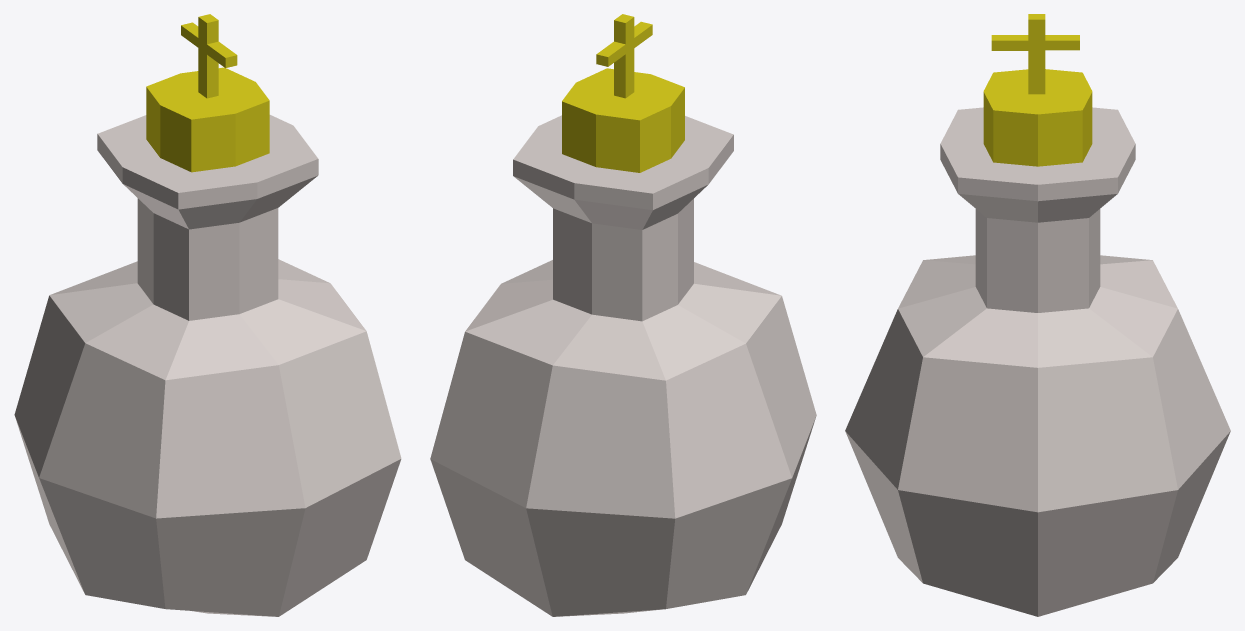
File: holy_water.fbx
3 renders of one model, left to right at view 1: azimuth 30°, elevation 25°; view 2: azimuth 150°, elevation 25°; view 3: azimuth 270°, elevation 25°, orthographic.
Visible parts, largest first — view 1: bottle, cork; view 2: bottle, cork; view 3: bottle, cork.
Boxes of the visible parts, x1,y1,x2,y2 form: bottle: (14,115,401,616); cork: (146,14,269,172); bottle: (430,115,816,616); cork: (562,14,684,172); bottle: (845,107,1230,616); cork: (983,14,1092,166).
Size of the model in its own units: 22.46 by 37.81 by 22.46.
